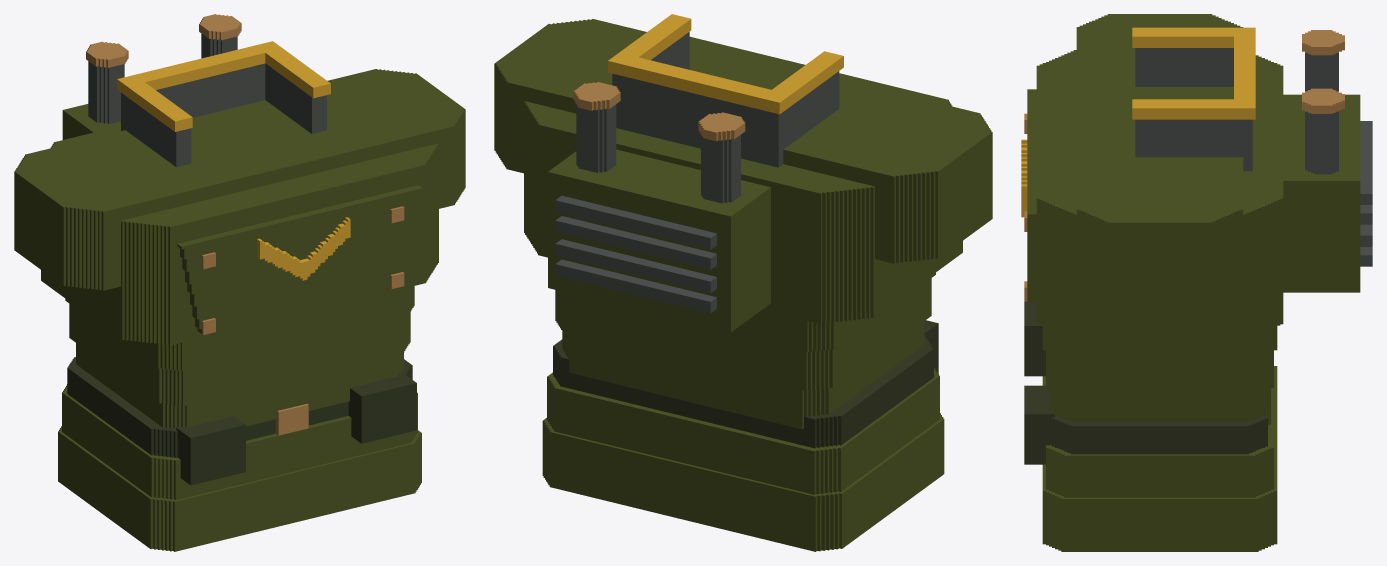
Rendered from armor_trooper.glb.
The picture shows the model from 3 angles, left to right: view 1: azimuth 30°, elevation 25°; view 2: azimuth 150°, elevation 25°; view 3: azimuth 270°, elevation 25°; orthographic projection. The views are drawn at different scales.
Parts seen in each view (by area): view 1: armor_trooper:compound; view 2: armor_trooper:compound; view 3: armor_trooper:compound.
Boxes of the visible parts, bbox=[...] form: armor_trooper:compound: bbox=[14, 14, 465, 551]; armor_trooper:compound: bbox=[494, 14, 992, 551]; armor_trooper:compound: bbox=[1021, 14, 1372, 551].
Bounding box in the file's own units: 0.64 × 0.592 × 0.456.
